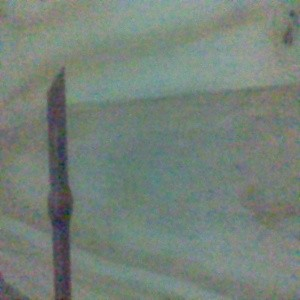cutter: (44, 66, 75, 300)
